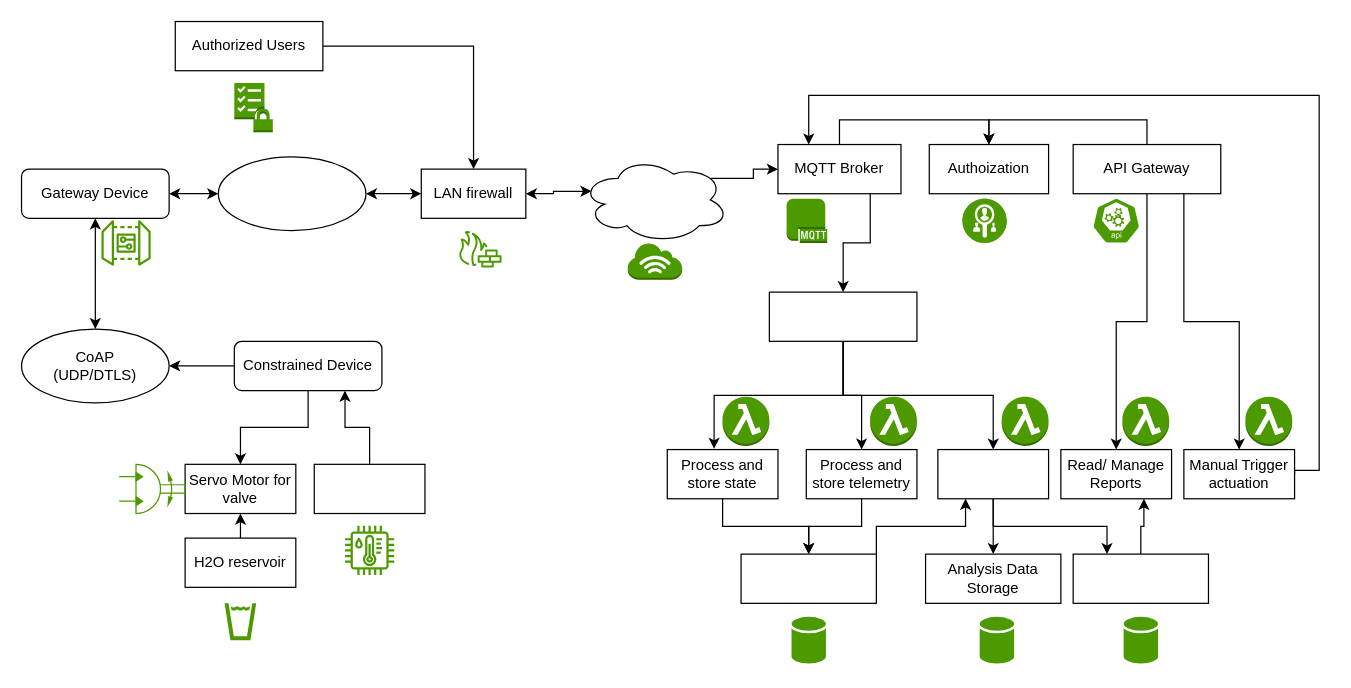
The diagram is 1351 pixels wide and 688 high, and some of its shapes have lost their labels. Each missing label, with the centre of its shape:
"Internet" belongs at point 654,199.
"IoT filter rules and event management" belongs at point 842,316.
"MQTT (TCP/TLS)" belongs at point 291,193.
"Reports data Storage" belongs at point 1140,578.
"Telemetry & State Data Storage" belongs at point 808,578.
"Telemetry Analysis" belongs at point 993,473.
"Water Level Sensor" belongs at point 369,488.
